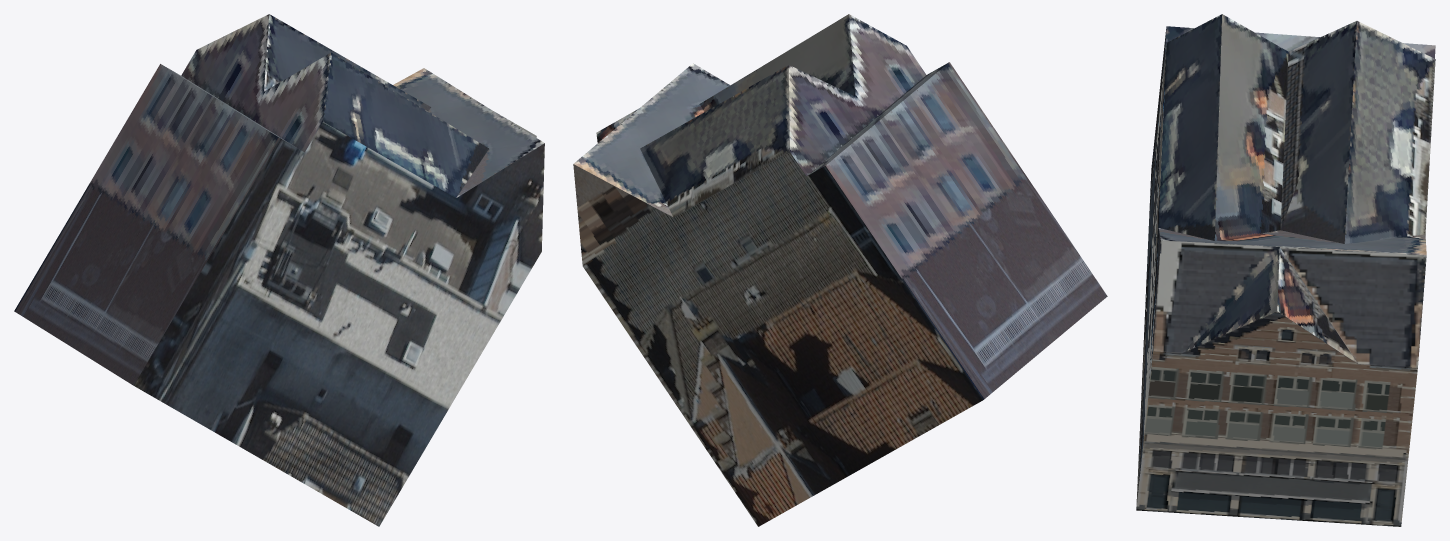
The picture shows the model from 3 angles, left to right: view 1: azimuth 30°, elevation 25°; view 2: azimuth 150°, elevation 25°; view 3: azimuth 270°, elevation 25°; orthographic projection. The views are drawn at different scales.
Parts seen in each view (by area): view 1: BAG_0599100000767277 (×5); view 2: BAG_0599100000767277 (×5); view 3: BAG_0599100000767277 (×5).
Part boxes in pixels (left/top/right/bottom): BAG_0599100000767277 (×5): left=14, top=14, right=544, bottom=526; BAG_0599100000767277 (×5): left=573, top=14, right=1107, bottom=526; BAG_0599100000767277 (×5): left=1136, top=14, right=1435, bottom=526.
Bounding box in the file's own units: 24.52 × 23.53 × 12.58.
5 materials, 5 textured.
